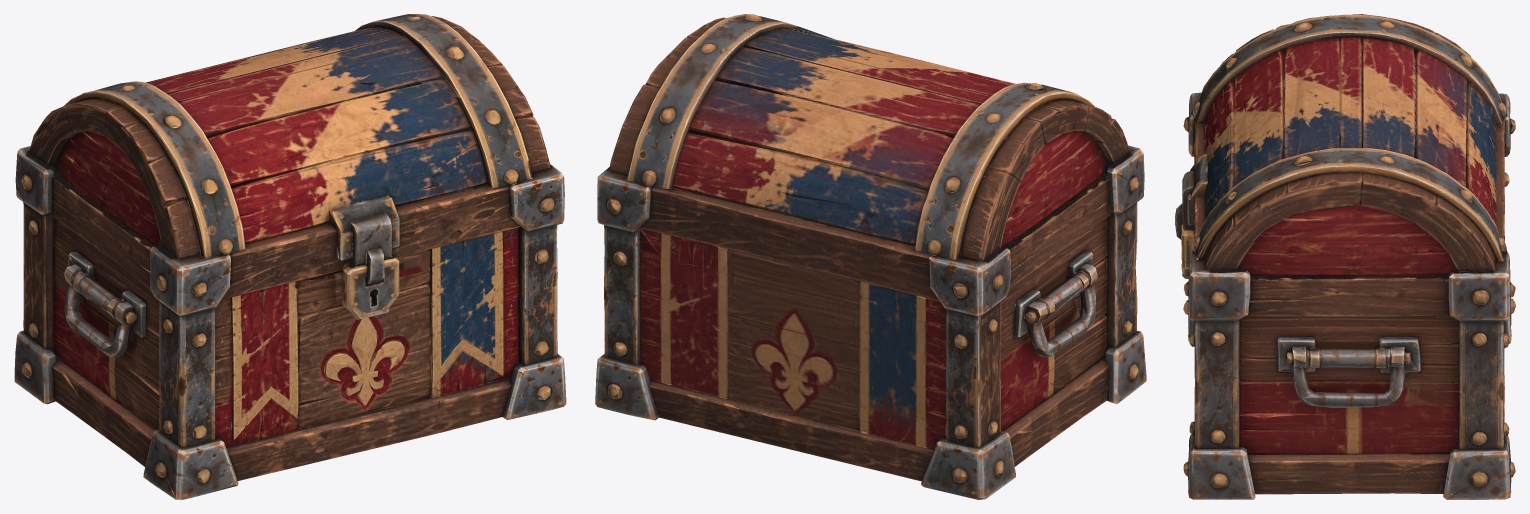
The model's file is feast-chest.glb.
3 renders of one model, left to right at view 1: azimuth 30°, elevation 25°; view 2: azimuth 150°, elevation 25°; view 3: azimuth 270°, elevation 25°, orthographic. The views are drawn at different scales.
Visible parts, largest first — view 1: output_unwrapped; view 2: output_unwrapped; view 3: output_unwrapped.
Boxes of the visible parts, box(x1,y1,x2,y2) form: output_unwrapped: box(14, 14, 566, 499); output_unwrapped: box(595, 14, 1146, 499); output_unwrapped: box(1175, 14, 1515, 499).
Bounding box in the file's own units: 1.9 × 1.47 × 1.43.
Materials: 1 (1 with a texture image).
